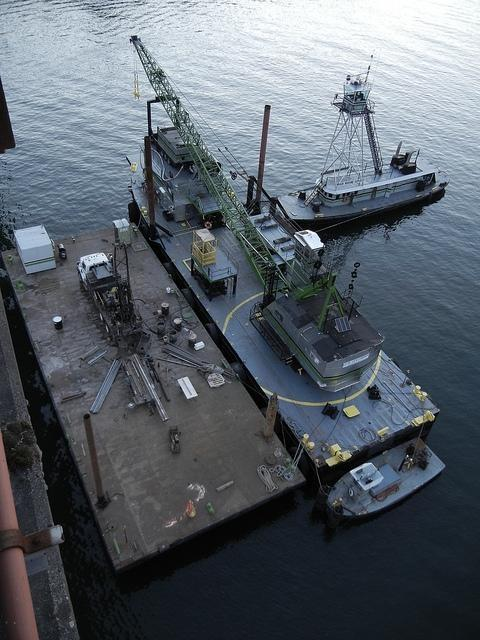truck: (76, 240, 144, 338)
